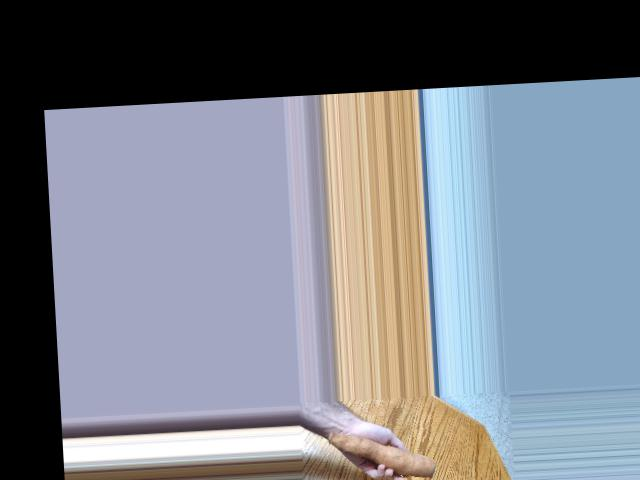sweet_potato: (324, 424, 436, 480)
